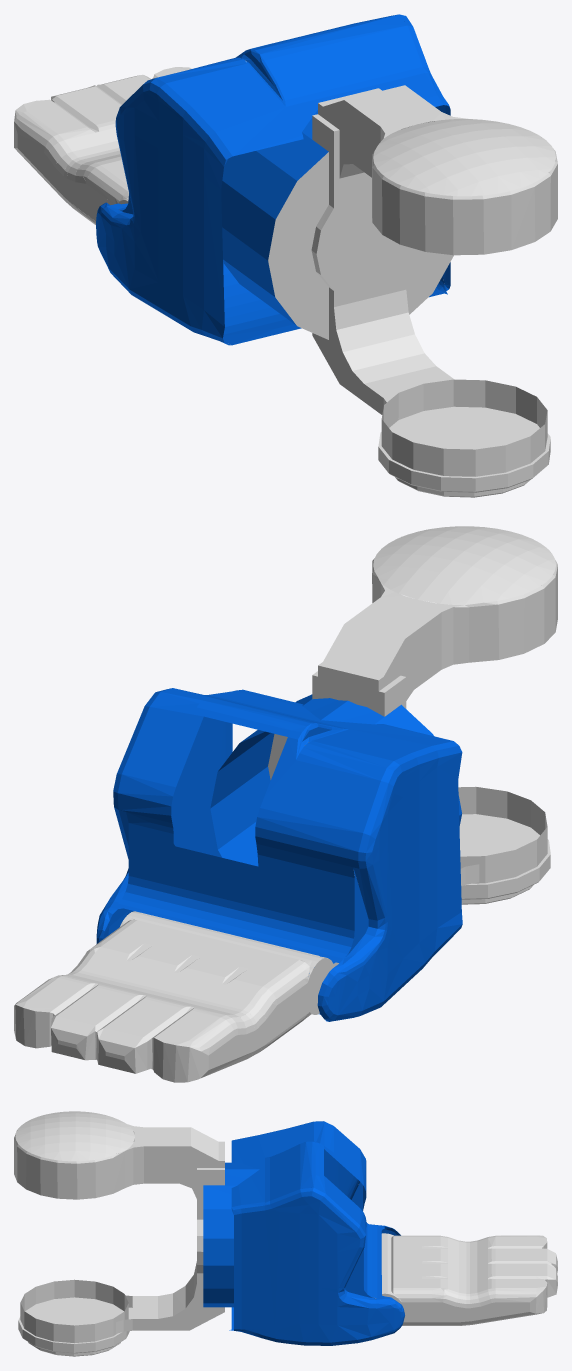
The model's file is RARM_LINK6_mesh.dae.
3 views of the same model, one above another, from view 1: azimuth 30°, elevation 25°; view 2: azimuth 150°, elevation 25°; view 3: azimuth 270°, elevation 25° (orthographic). The views are drawn at different scales.
Parts seen in each view (by area): view 1: RARM_LINK6 (×3); view 2: RARM_LINK6 (×3); view 3: RARM_LINK6 (×3).
Boxes of the visible parts, <box> form: RARM_LINK6 (×3): <box>14,14,557,497</box>; RARM_LINK6 (×3): <box>14,526,557,1082</box>; RARM_LINK6 (×3): <box>14,1111,557,1356</box>.
Size of the model in its own units: 0.0895 by 0.1075 by 0.2513.
